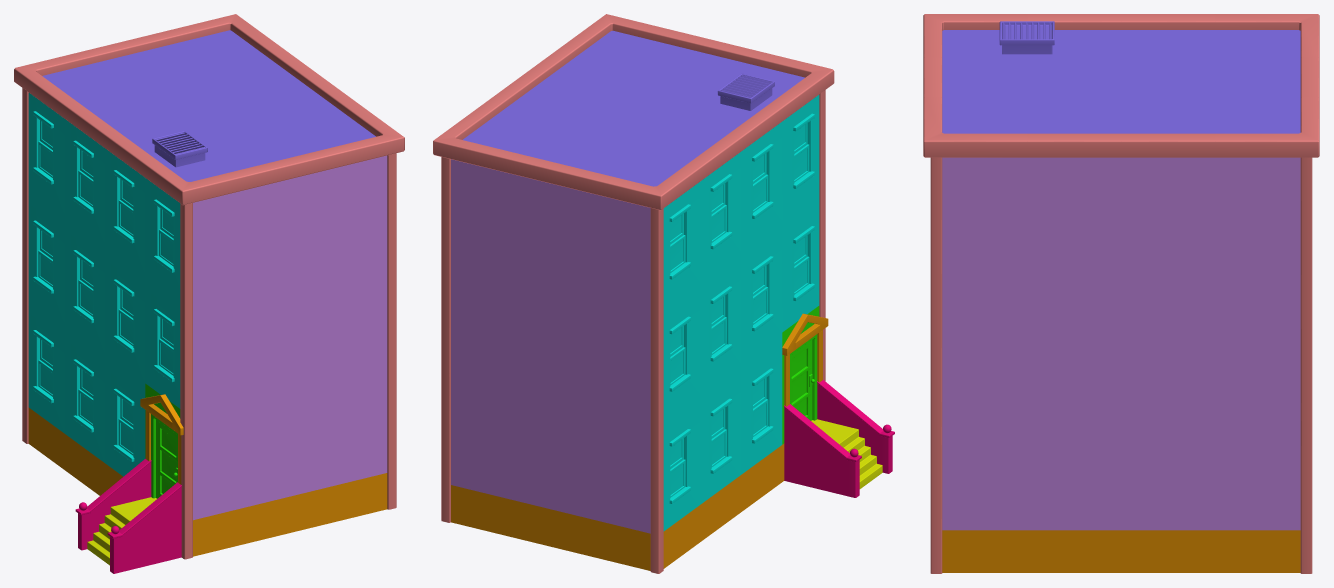
Rendered from Variante Edificio 2.fbx.
The picture shows the model from 3 angles, left to right: view 1: azimuth 30°, elevation 25°; view 2: azimuth 150°, elevation 25°; view 3: azimuth 270°, elevation 25°; orthographic projection. The views are drawn at different scales.
Visible parts, largest first — view 1: Pared E2.021, Pared E2.024, Pared E2.025, Pared E2.022, Pared E2.027, Pared E2.020, Pared E2.023, Pared E2.028, Pared E2.026, Soporte barandilla entrada.008, Tile pared Ventana.047, Tile pared Ventana.052 (+54 smaller); view 2: Pared E2.030, Pared E2.033, Pared E2.031, Pared E2.034, Pared E2.036, Pared E2.029, Pared E2.032, Pared E2.037, Pared E2.035, Soporte barandilla entrada.009, Tile pared Ventana.044, Tile pared Ventana.052 (+52 smaller); view 3: Pared E2.065, Pared E2.066, Pared E2.002, Pared E2.005, Pared E2.067, Pared E2.008, Pared E2.003, Pared E2.006, Pared E2.001, Pared E2.004, Pared E2.009, Pared E2.007 (+36 smaller).
Boxes of the visible parts, x1,y1,x2,y2 form: Pared E2.021: [255, 379, 324, 504]; Pared E2.024: [255, 269, 324, 395]; Pared E2.025: [324, 254, 387, 378]; Pared E2.022: [324, 363, 387, 487]; Pared E2.027: [255, 171, 324, 286]; Pared E2.020: [193, 396, 254, 520]; Pared E2.023: [193, 286, 254, 410]; Pared E2.028: [324, 155, 387, 269]; Pared E2.026: [193, 188, 254, 301]; Soporte barandilla entrada.008: [110, 487, 181, 573]; Tile pared Ventana.047: [105, 245, 145, 382]; Tile pared Ventana.052: [64, 324, 104, 462]; Pared E2.030: [515, 388, 586, 517]; Pared E2.033: [515, 276, 586, 405]; Pared E2.031: [451, 373, 515, 500]; Pared E2.034: [451, 260, 515, 388]; Pared E2.036: [515, 175, 586, 293]; Pared E2.029: [587, 406, 650, 533]; Pared E2.032: [587, 293, 650, 421]; Pared E2.037: [451, 159, 515, 275]; Pared E2.035: [587, 192, 650, 308]; Soporte barandilla entrada.009: [784, 407, 859, 497]; Tile pared Ventana.044: [741, 333, 782, 474]; Tile pared Ventana.052: [699, 363, 740, 504]; Pared E2.065: [1121, 402, 1215, 530]; Pared E2.066: [1121, 273, 1215, 401]; Pared E2.002: [1027, 402, 1121, 530]; Pared E2.005: [1027, 273, 1121, 401]; Pared E2.067: [1121, 157, 1215, 273]; Pared E2.008: [1027, 157, 1121, 273]; Pared E2.003: [1215, 402, 1300, 530]; Pared E2.006: [1215, 273, 1300, 401]; Pared E2.001: [942, 402, 1026, 530]; Pared E2.004: [942, 273, 1026, 401]; Pared E2.009: [1215, 157, 1300, 273]; Pared E2.007: [942, 157, 1026, 273].
Bounding box in the file's own units: 840 × 824 × 1036.
